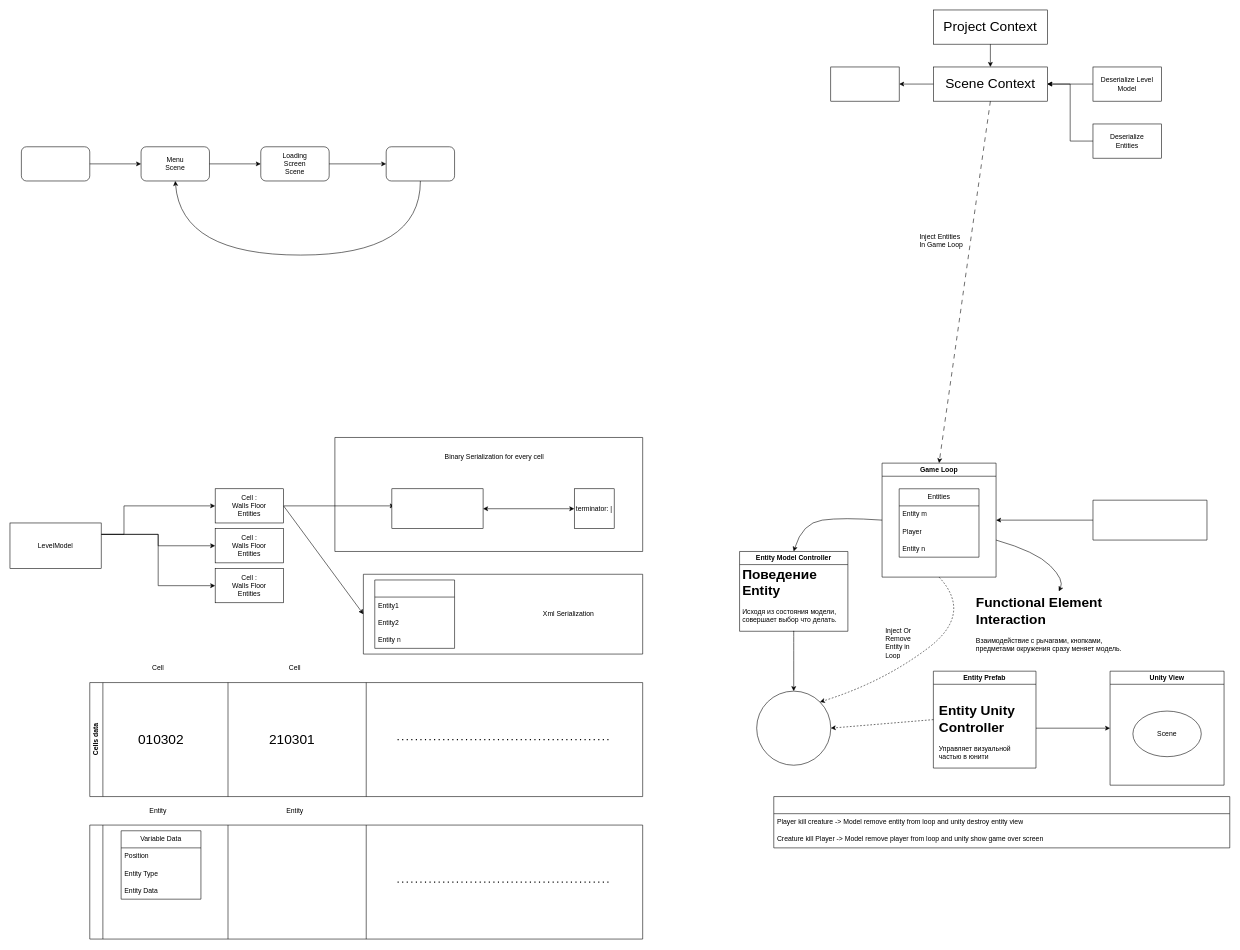
Image size: 1240x950. Some labels were removed from this diagram. Here are the shapes that lost their labels. From the top down, the box of each, then its label:
(830, 66, 899, 101): Instantiate Prefabs
(21, 146, 90, 181): Bootstrap Scene
(386, 146, 455, 181): Game Scene
(391, 488, 483, 529): Walls: [roof, floor north,east,south,west] Whole: 2,Half: 1,None: 0
(1092, 500, 1207, 540): User Input
(374, 579, 455, 648): Collection of Enities
(756, 691, 831, 765): Model
(773, 796, 1230, 848): Scenarios
(89, 825, 643, 939): Entity Variable Data
